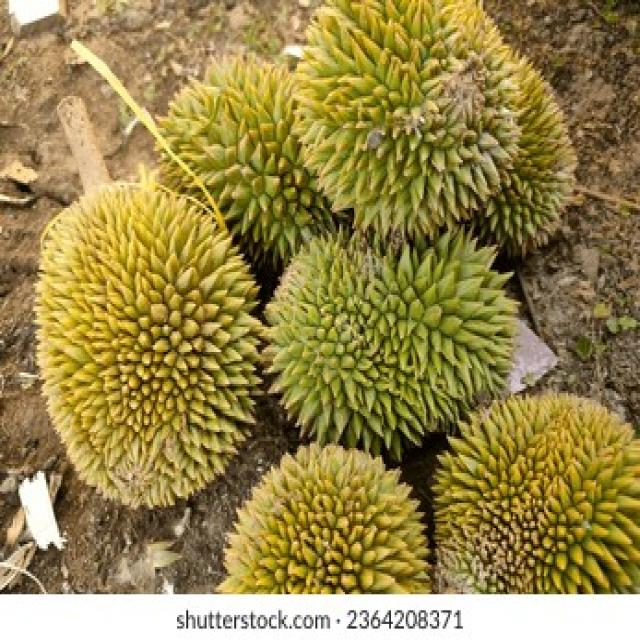immature: (23, 178, 252, 512), (258, 216, 530, 444), (294, 0, 518, 236), (431, 378, 638, 597), (145, 57, 350, 260), (217, 434, 433, 598)
